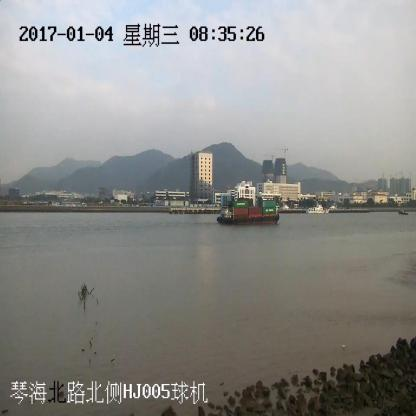Container Ship: (217, 200, 279, 224)
